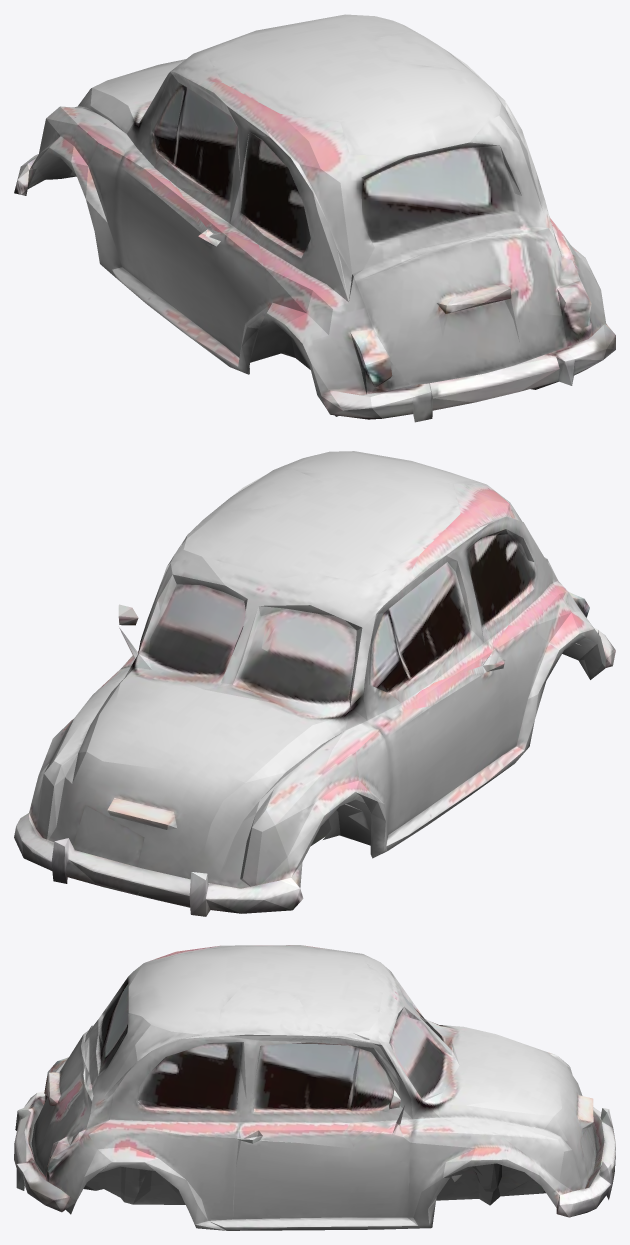
File: trafficCar.glb
The picture shows the model from 3 angles, top to bottom: view 1: azimuth 30°, elevation 25°; view 2: azimuth 150°, elevation 25°; view 3: azimuth 270°, elevation 25°; orthographic projection. The views are drawn at different scales.
Visible parts, largest first — view 1: model; view 2: model; view 3: model.
Boxes of the visible parts, x1,y1,x2,y2 form: model: [14, 14, 615, 422]; model: [14, 451, 615, 916]; model: [14, 945, 615, 1230].
Size of the model in its own units: 0.9074 by 0.712 by 1.9.
1 material, 1 textured.
